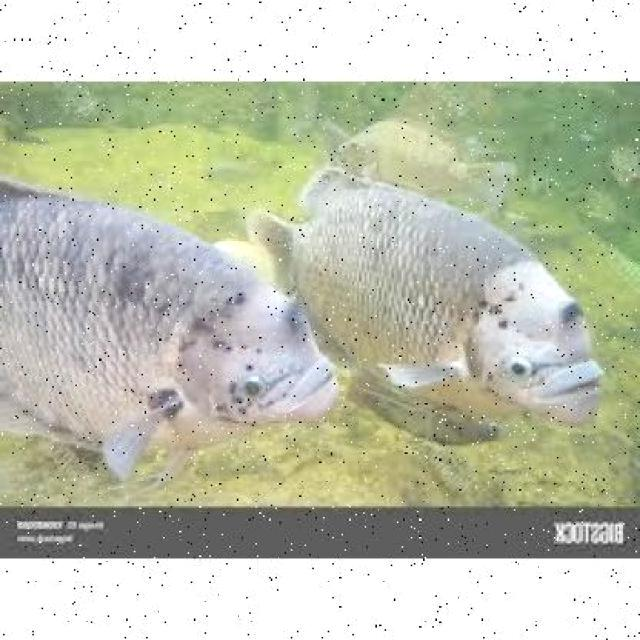gurame: (2, 164, 340, 461), (303, 178, 614, 440)
